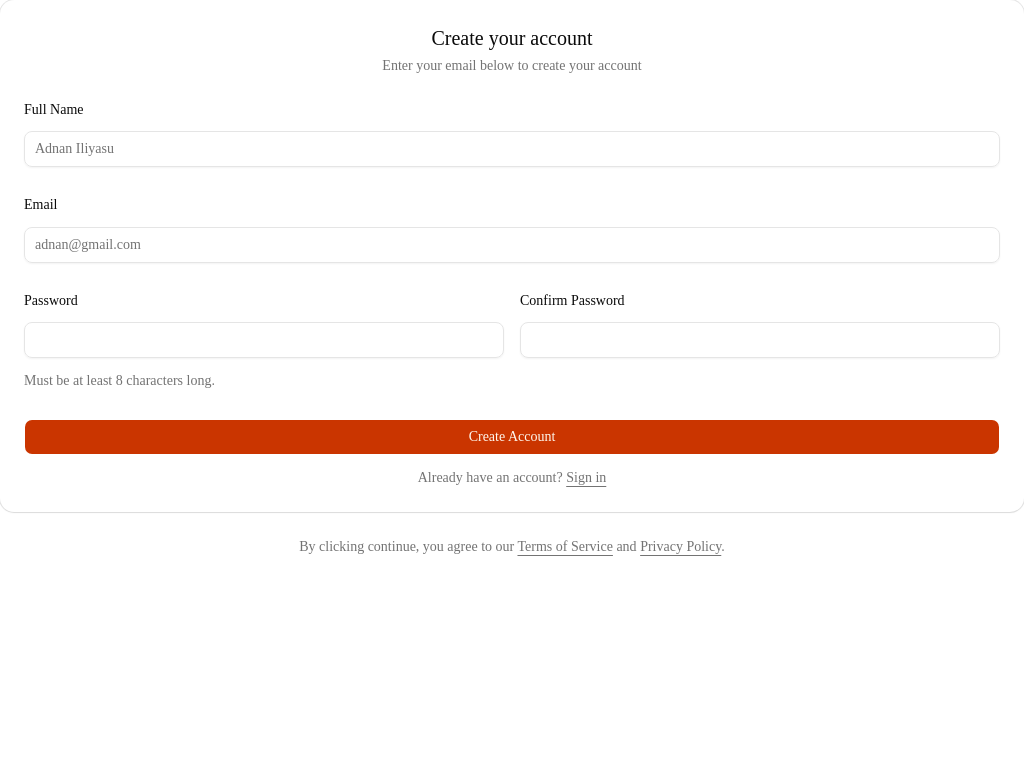
Scenario: Authentication Components › SignUpForm › validates required fields
Click the button "Create Account" at point(512, 437), box [24,419,1000,455]
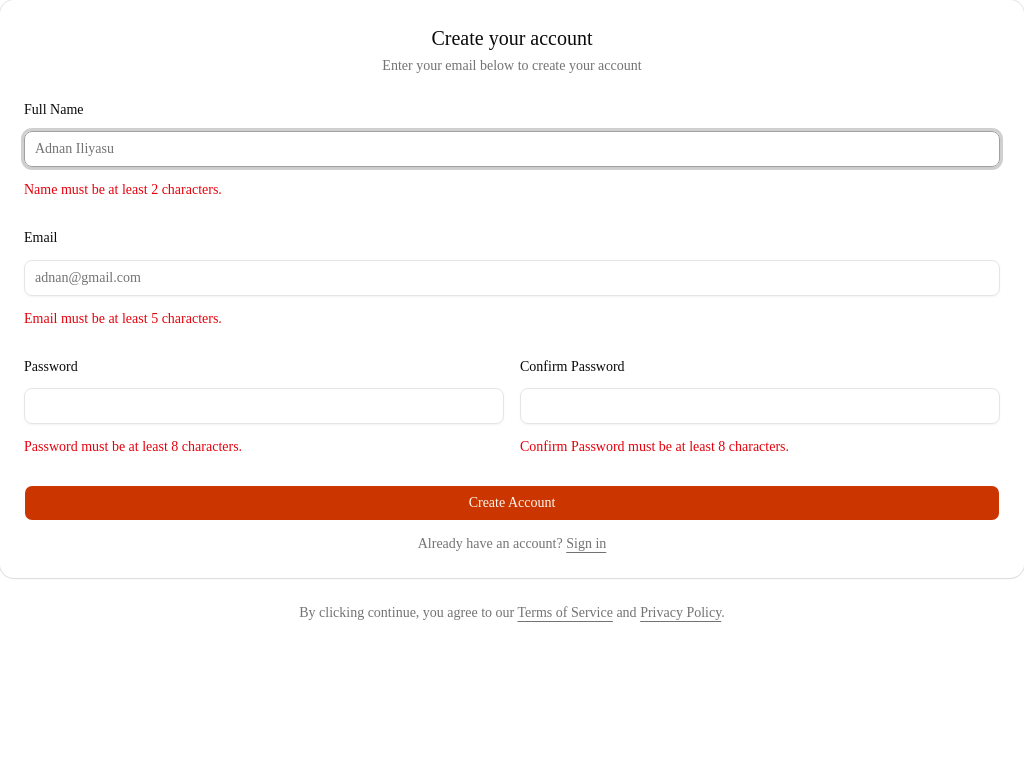
Expected: the text "Name must be at least 2 characters." is shown, [24,182,222,197]
Expected: the text "Email must be at least 5 characters." is shown, [24,310,222,326]
Expected: the text "Password must be at least 8 characters." is shown, [24,439,242,454]
